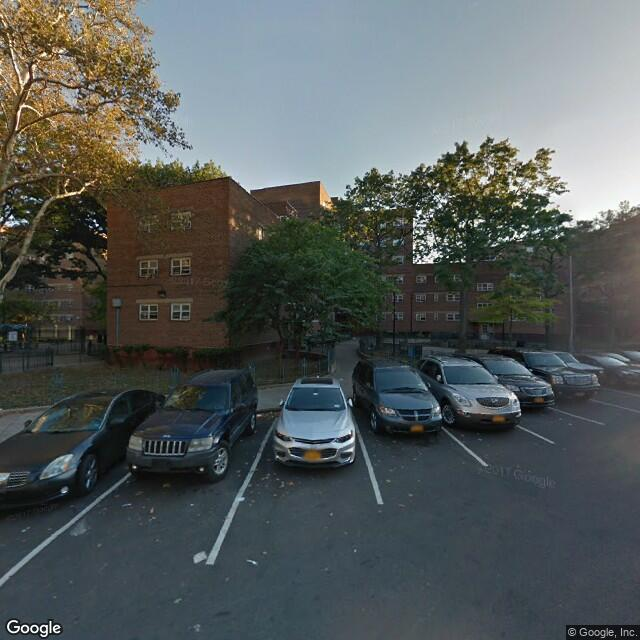litter: (191, 550, 206, 563), (246, 557, 258, 565), (238, 497, 246, 501), (123, 503, 132, 506)
